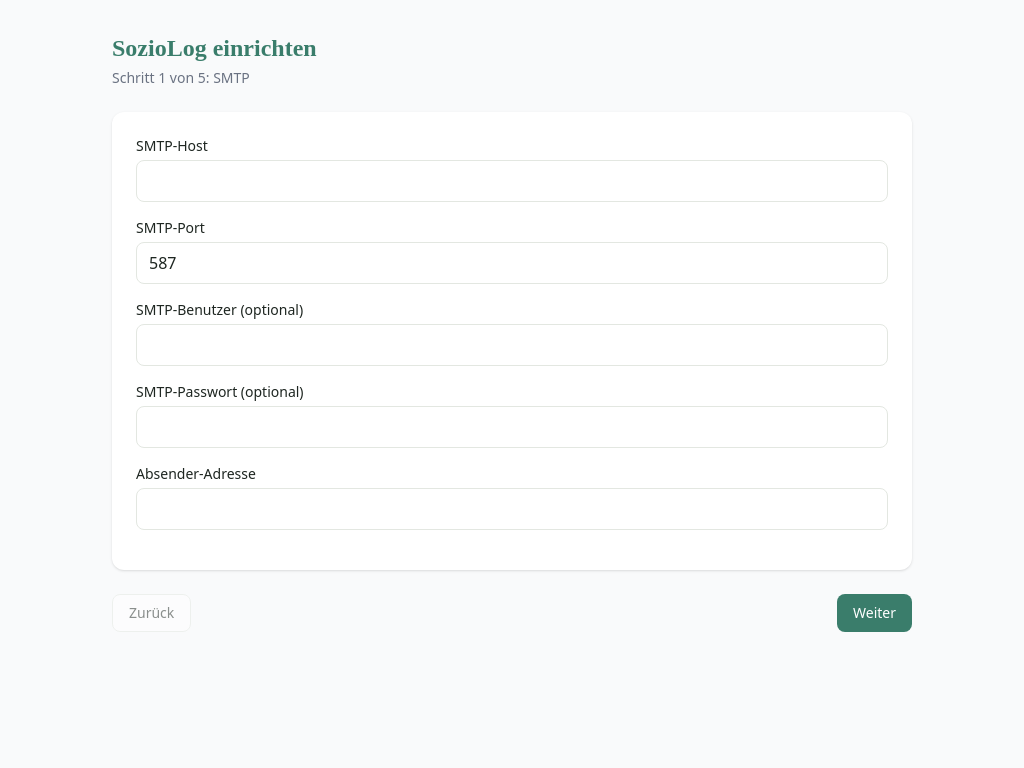
Test case: SetupWizard › zeigt den SMTP-Schritt und blockt bei fehlenden Pflichtfeldern (kein Env-SMTP)
Expected: the text "Schritt 1 von 5: SMTP" is shown, [112,68,250,87]
Step 1. Click the button "Weiter" → (874, 613), box [837,594,912,632]
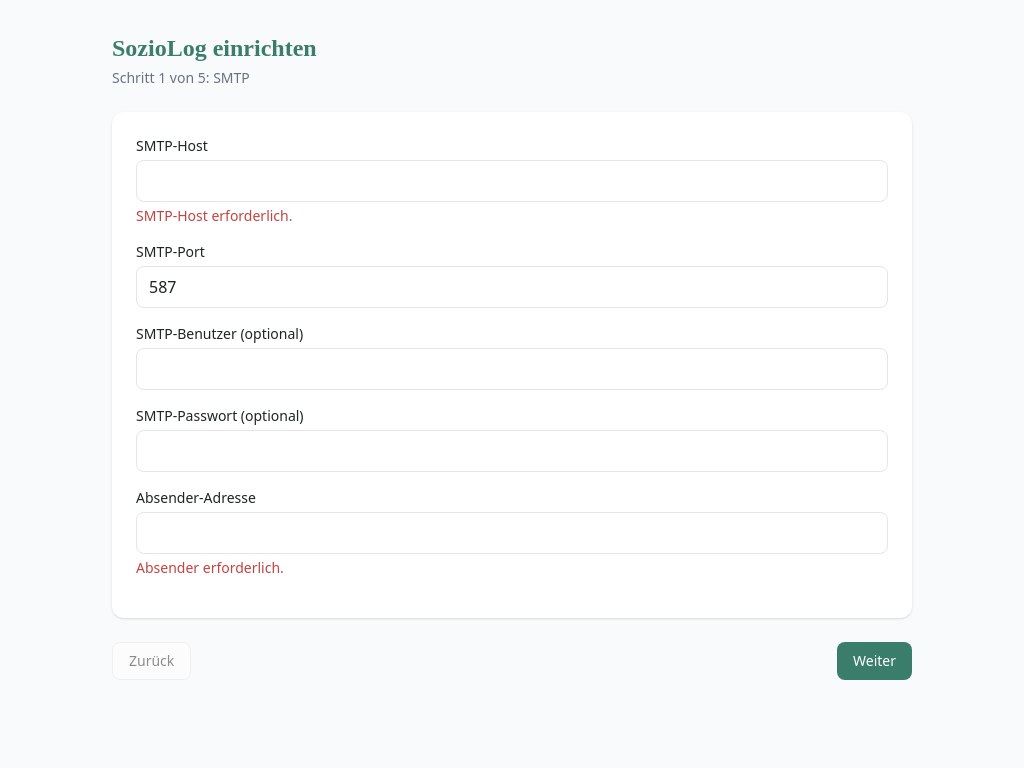
Expected: the text "Schritt 1 von 5: SMTP" is shown, [112,68,250,87]
Result: the text "SMTP-Host erforderlich." is shown at [136,206,292,225]
